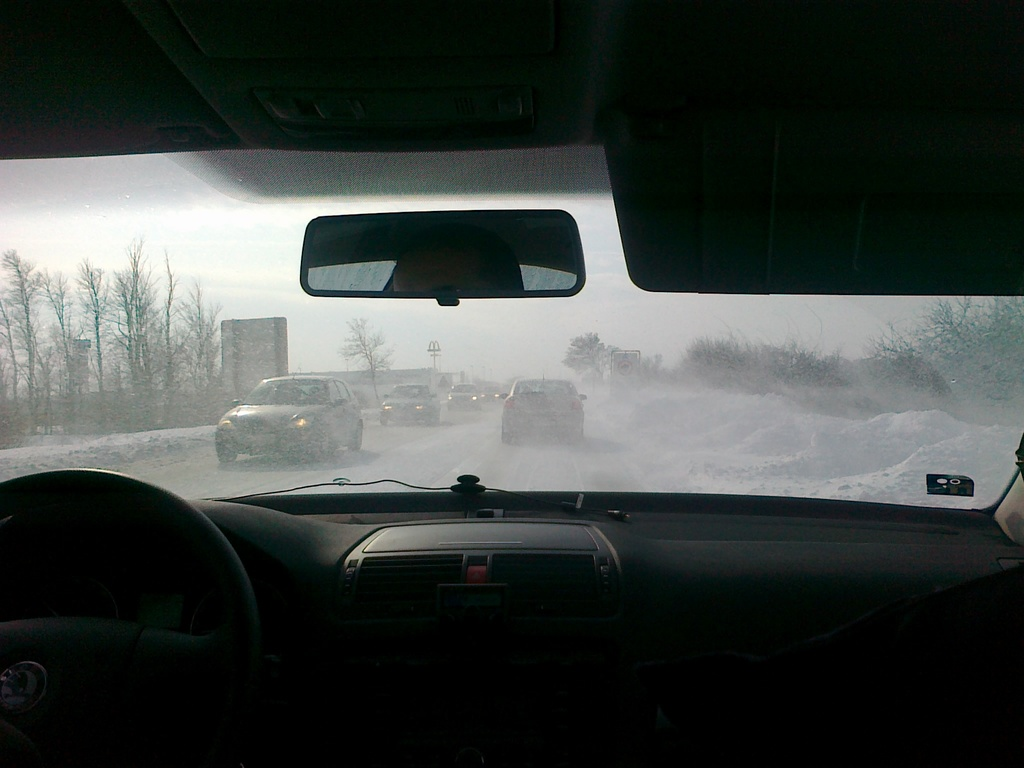Car: (0, 0, 1023, 767), (213, 373, 363, 462), (499, 376, 587, 444), (380, 385, 441, 423), (449, 385, 476, 407)
